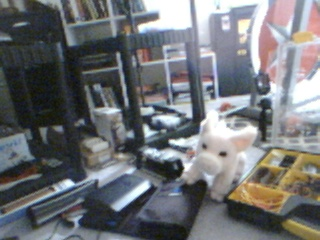piggy: (178, 109, 259, 205)
